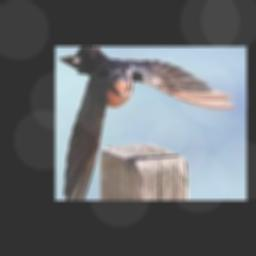Swallow: (58, 46, 234, 200)
